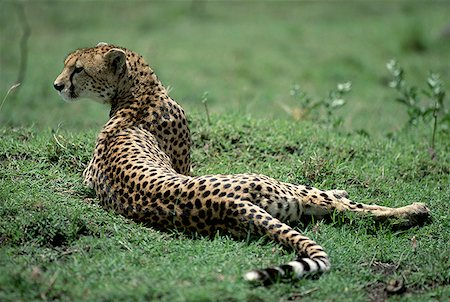Cheetah: (54, 42, 429, 278)
